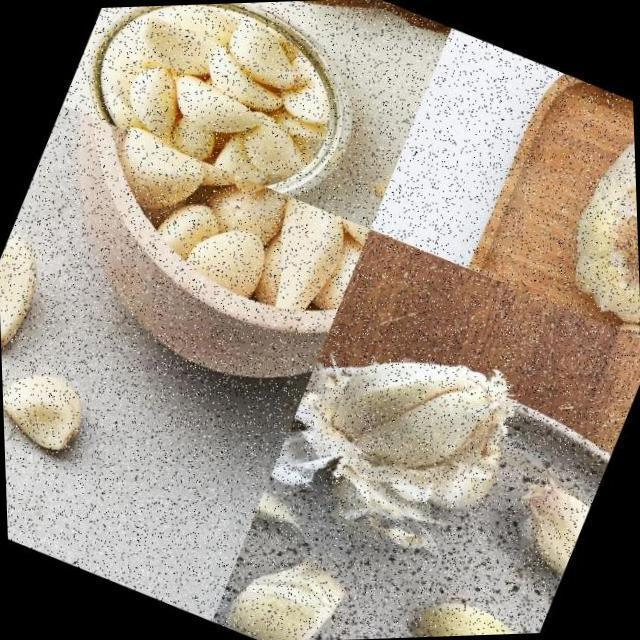garlic: (55, 112, 372, 344), (84, 0, 364, 208), (294, 314, 535, 534), (539, 102, 640, 344), (219, 538, 358, 640), (489, 470, 595, 586), (1, 356, 99, 462), (0, 224, 61, 358), (398, 582, 538, 638), (240, 486, 320, 567)
